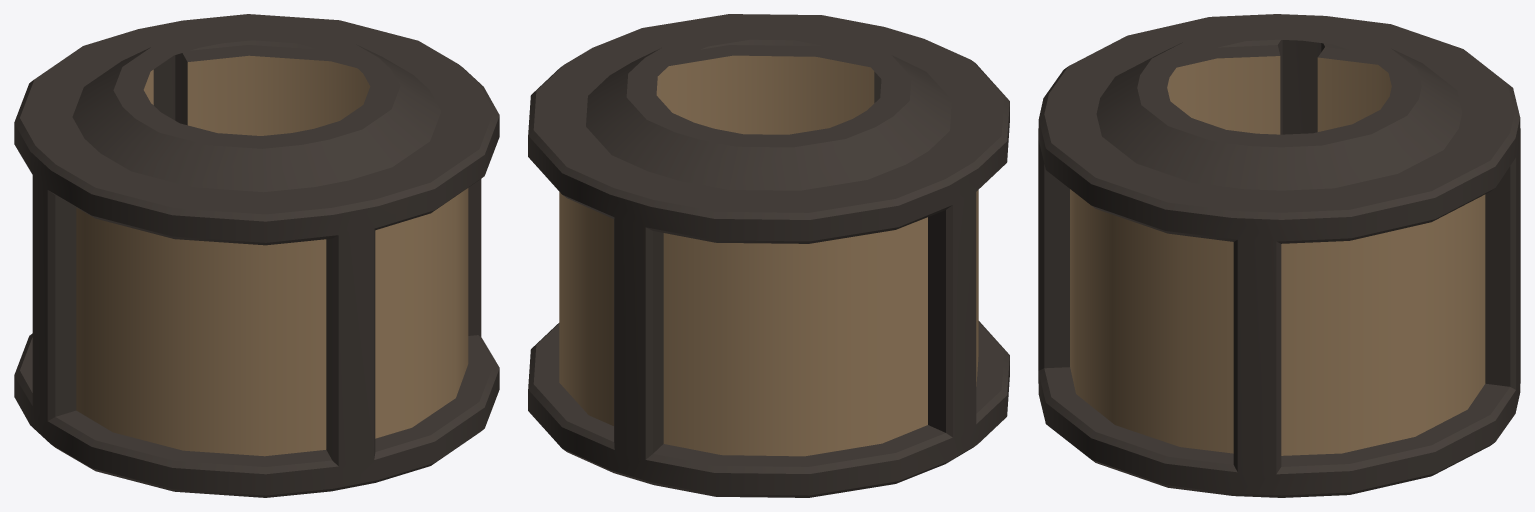
The model's file is Rotate_4.fbx.
3 renders of one model, left to right at view 1: azimuth 30°, elevation 25°; view 2: azimuth 150°, elevation 25°; view 3: azimuth 270°, elevation 25°, orthographic.
Parts seen in each view (by area): view 1: Rotate_4; view 2: Rotate_4; view 3: Rotate_4.
Boxes of the visible parts, x1,y1,x2,y2 form: Rotate_4: [14, 14, 499, 497]; Rotate_4: [528, 14, 1009, 497]; Rotate_4: [1038, 14, 1520, 497].
Size of the model in its own units: 20.15 by 15.55 by 20.15.
